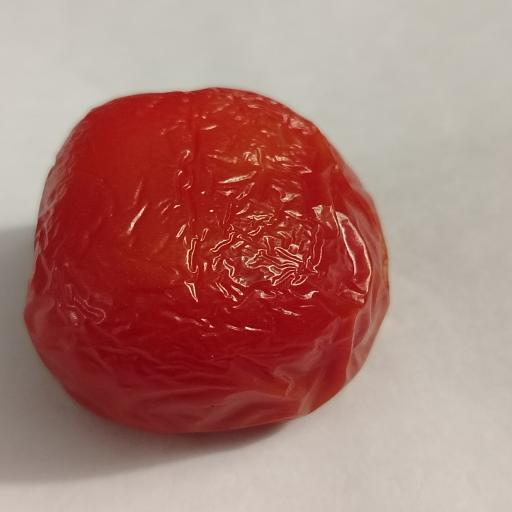spoiled: (26, 88, 388, 433)
